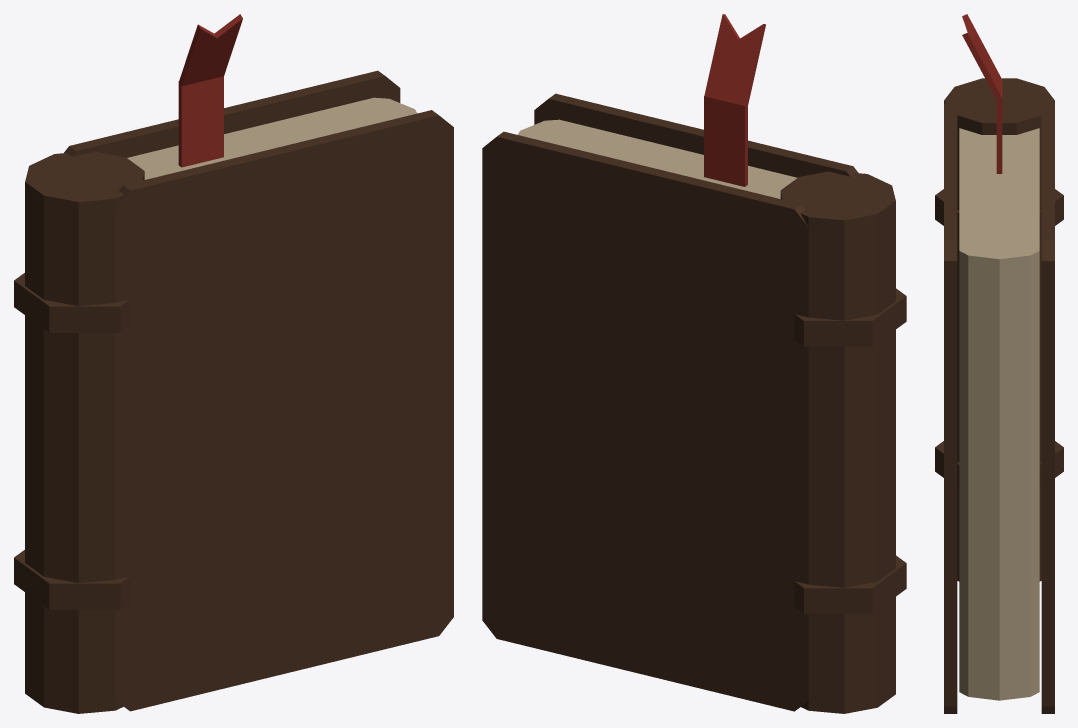
Rendered from lefthand-item-30f012.glb.
3 views of the same model, side by side, from view 1: azimuth 30°, elevation 25°; view 2: azimuth 150°, elevation 25°; view 3: azimuth 270°, elevation 25° (orthographic). The views are drawn at different scales.
Bounding box in the file's own units: 0.185 × 0.297 × 0.058.
